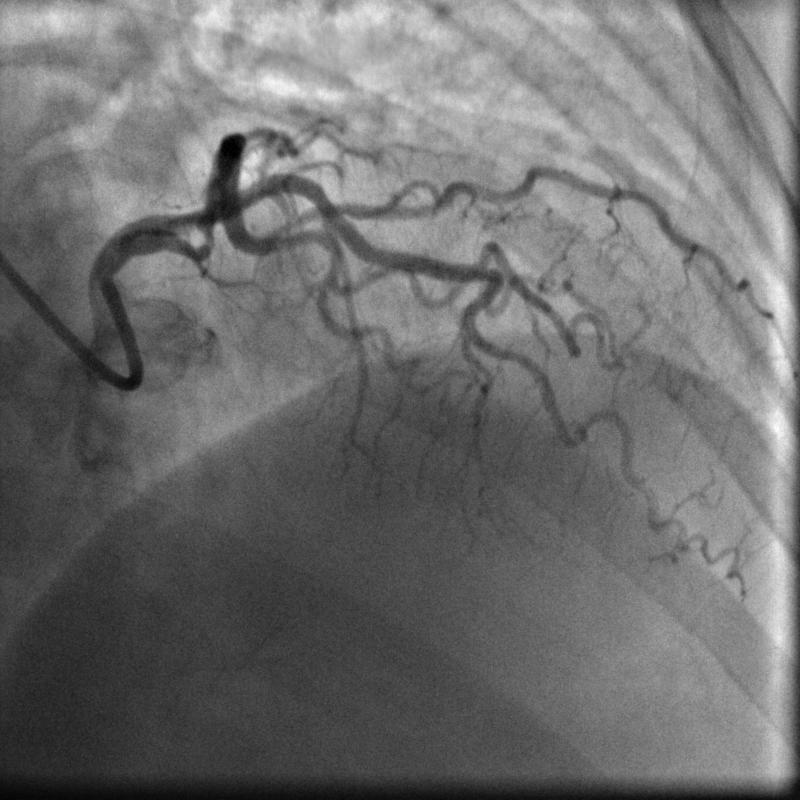Stenosis: (194, 216, 223, 264)
